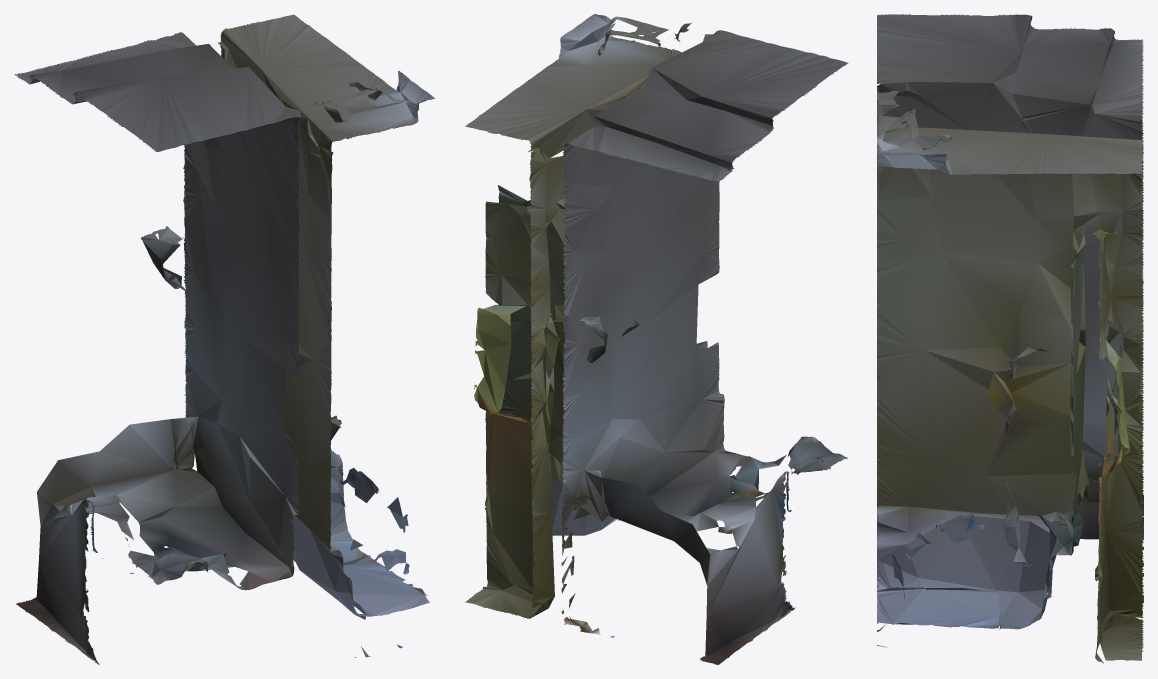
The model's file is coarse.glb.
3 renders of one model, left to right at view 1: azimuth 30°, elevation 25°; view 2: azimuth 150°, elevation 25°; view 3: azimuth 270°, elevation 25°, orthographic. The views are drawn at different scales.
Bounding box in the file's own units: 1.47 × 2.83 × 1.3.
